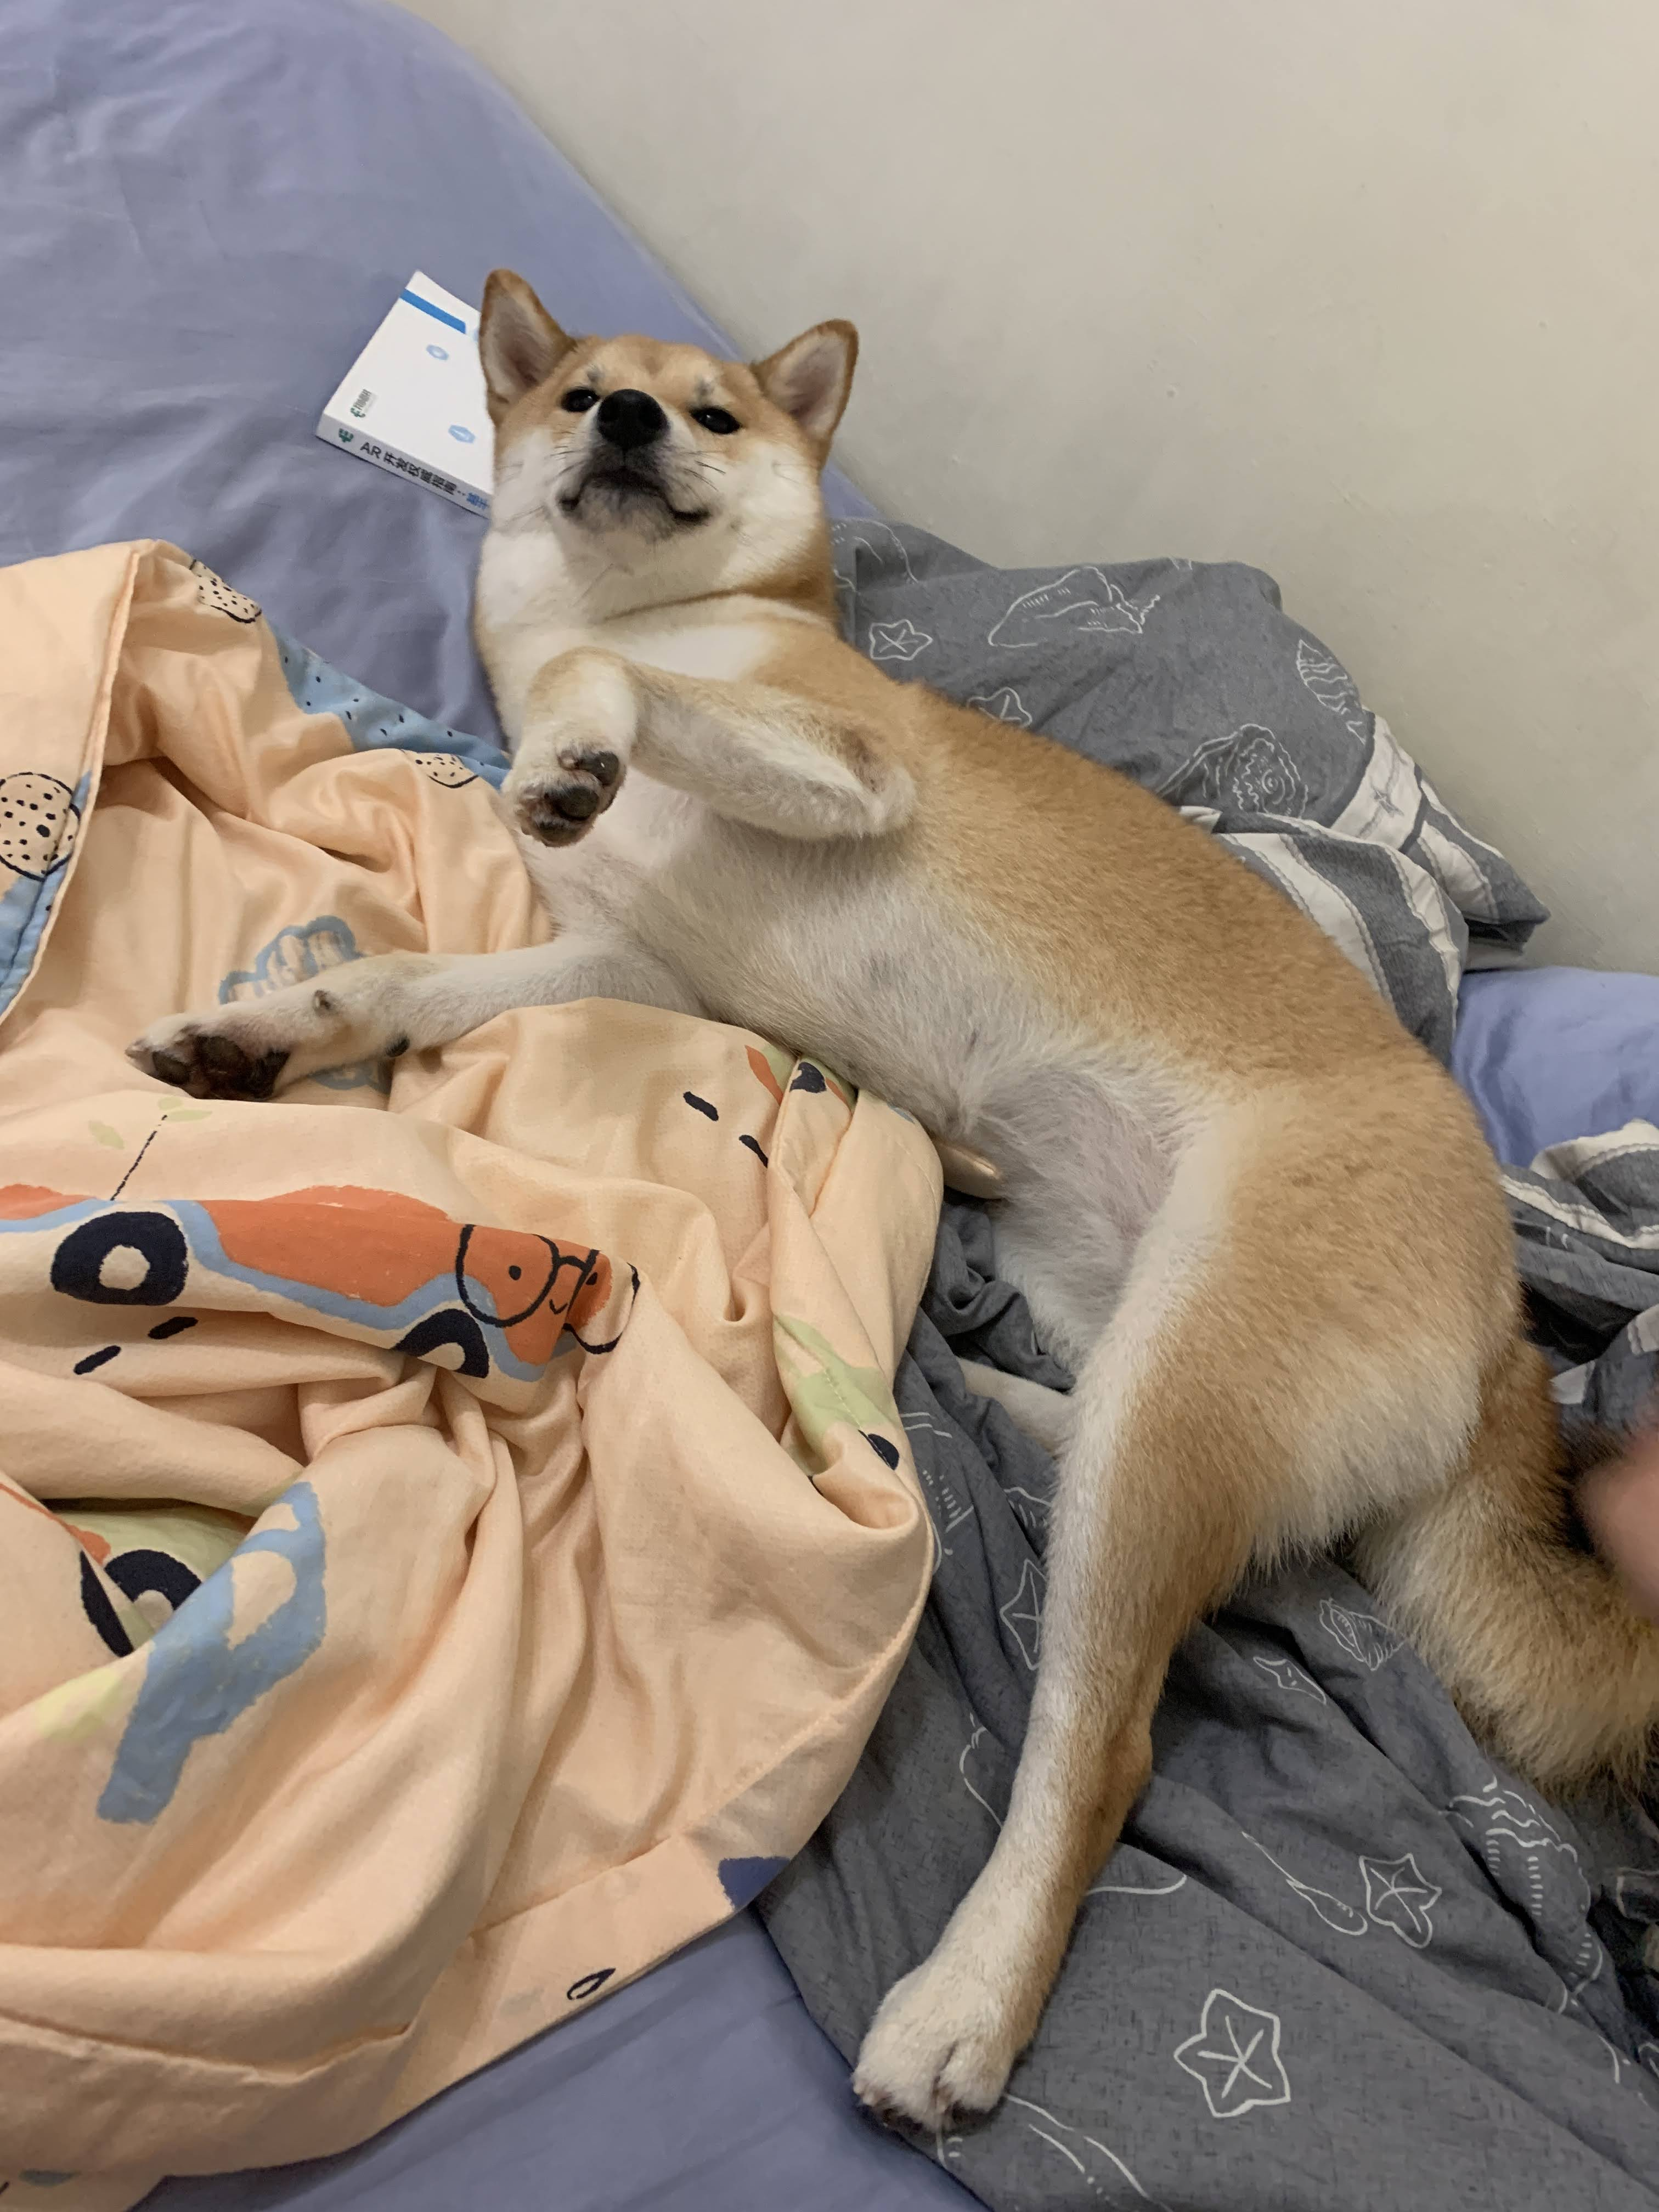Lie down: (232, 225, 1617, 2177)
